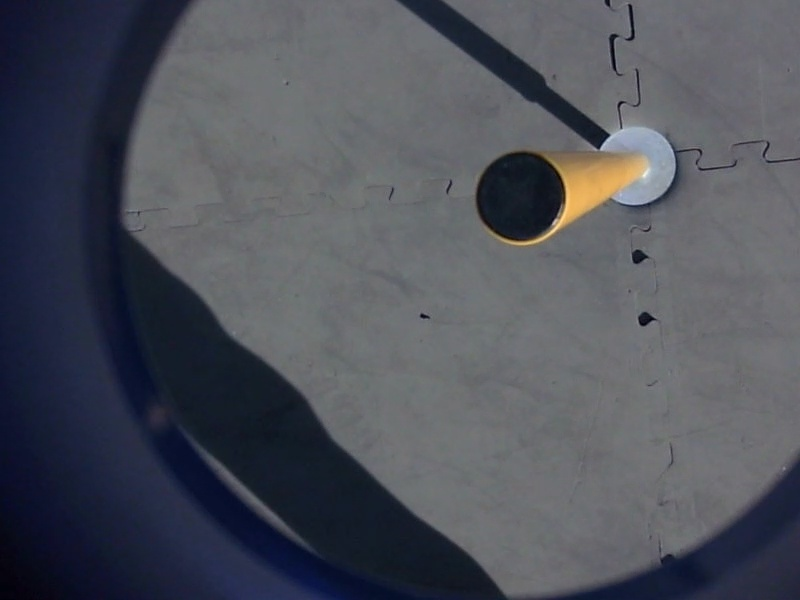tip: (466, 143, 575, 257)
